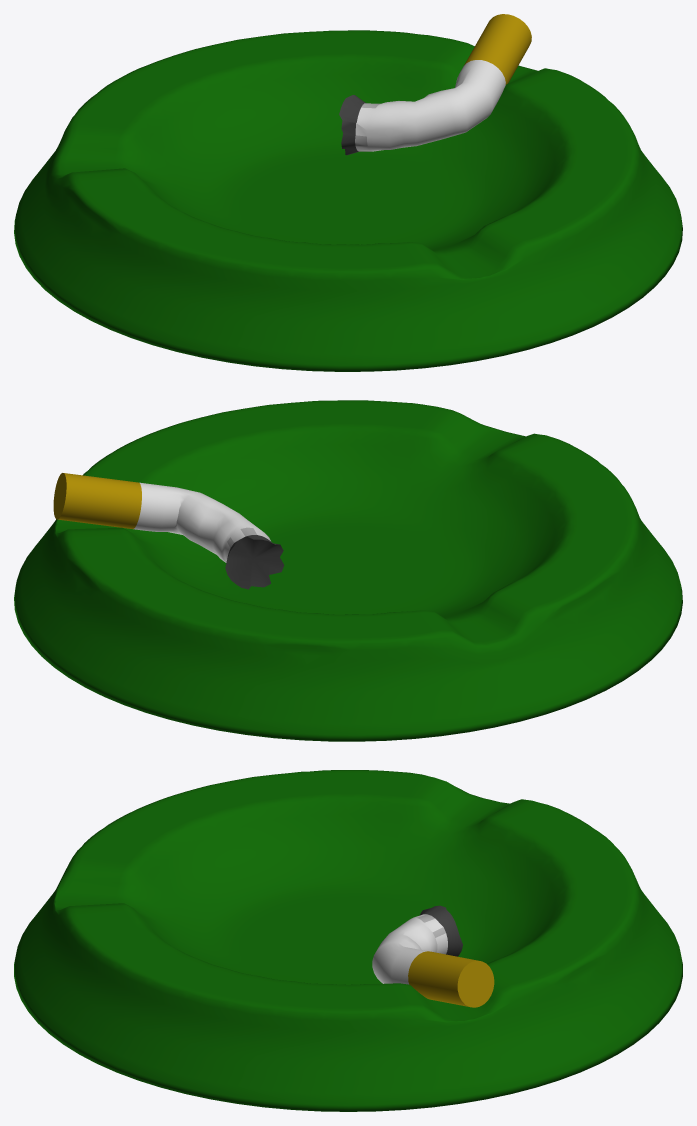
File: ashTray.fbx
The picture shows the model from 3 angles, top to bottom: view 1: azimuth 30°, elevation 25°; view 2: azimuth 150°, elevation 25°; view 3: azimuth 270°, elevation 25°; orthographic projection.
Visible parts, largest first — view 1: pCylinder4; view 2: pCylinder4; view 3: pCylinder4.
Part boxes in pixels (x1=…): pCylinder4: x1=14, y1=14, x2=682, y2=371; pCylinder4: x1=14, y1=400, x2=682, y2=741; pCylinder4: x1=14, y1=770, x2=682, y2=1111.
Bounding box in the file's own units: 3.5 × 0.6876 × 3.5.
